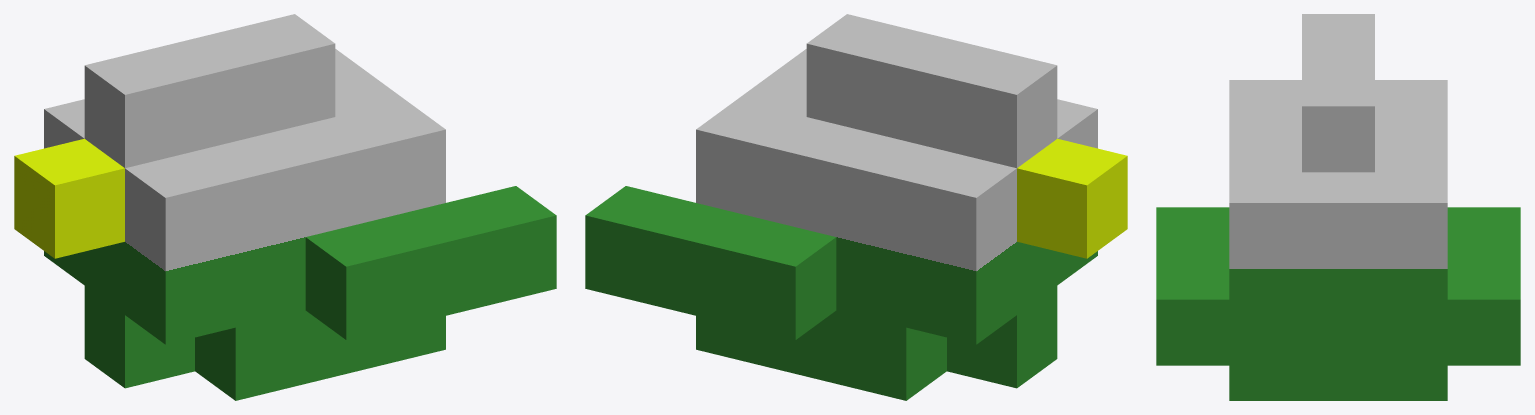
Rendered from GobHead.dae.
3 renders of one model, left to right at view 1: azimuth 30°, elevation 25°; view 2: azimuth 150°, elevation 25°; view 3: azimuth 270°, elevation 25°, orthographic. The views are drawn at different scales.
Visible parts, largest first — view 1: GobHead; view 2: GobHead; view 3: GobHead.
Boxes of the visible parts, <box> form: GobHead: <box>14,14,556,400</box>; GobHead: <box>585,14,1127,400</box>; GobHead: <box>1156,14,1520,400</box>.
Size of the model in its own units: 0.6 by 0.5 by 0.4.
1 material, 1 textured.
